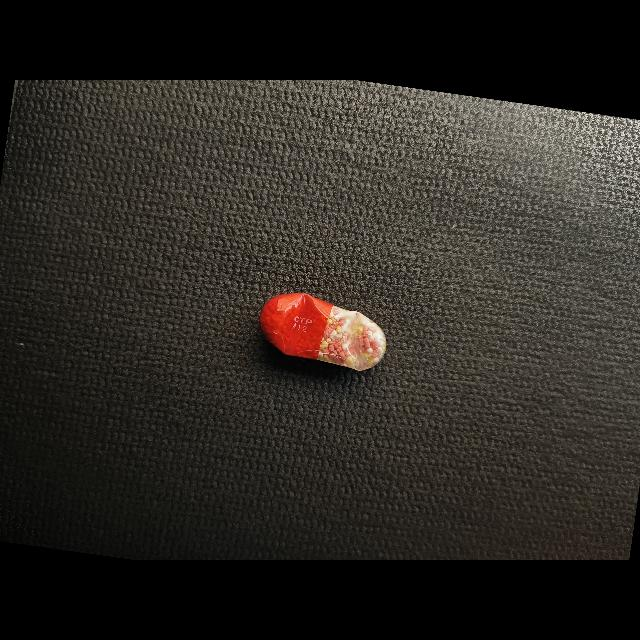Defective Capsule: (260, 293, 387, 371)
